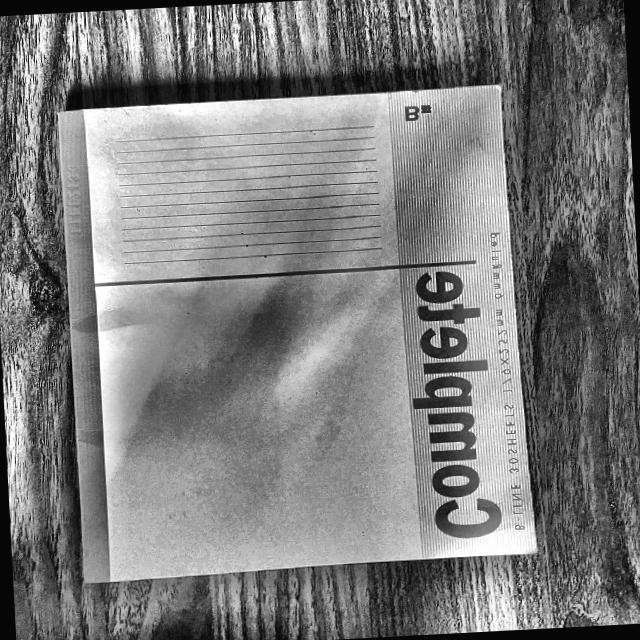Notebook: (22, 66, 550, 604)
